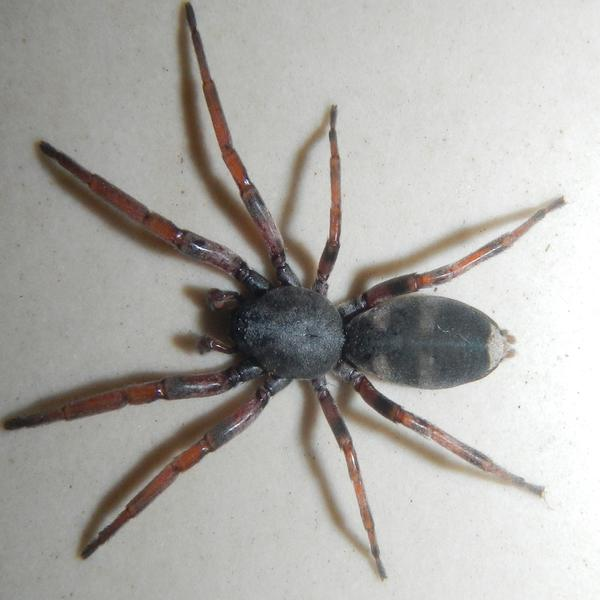White-Tailed_Spider: (12, 3, 565, 566)
